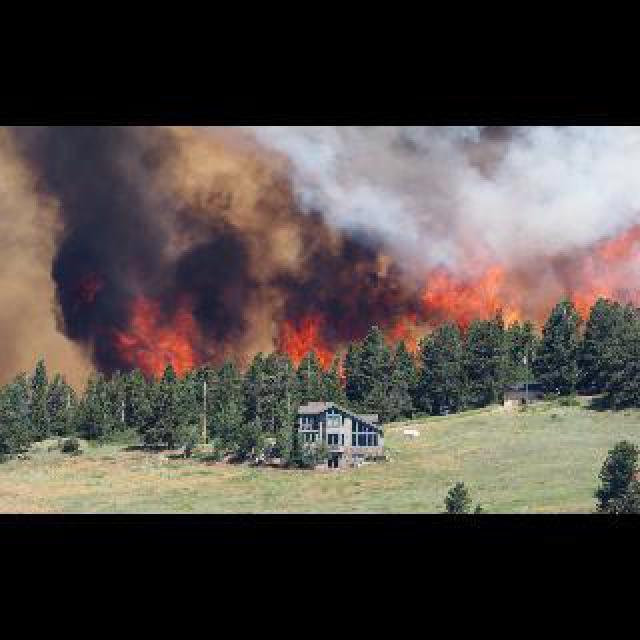Fire: (428, 250, 520, 328), (128, 322, 202, 384), (280, 322, 330, 378), (382, 310, 424, 358)
Smoke: (2, 124, 278, 356), (280, 124, 428, 310)
